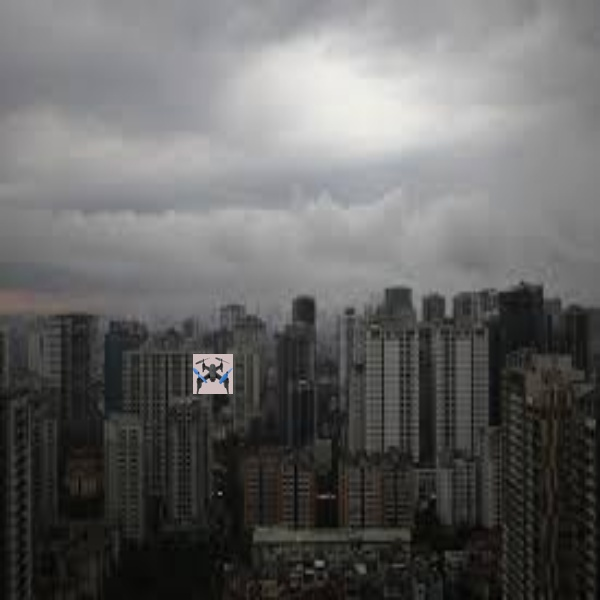drone: (187, 355, 239, 397)
